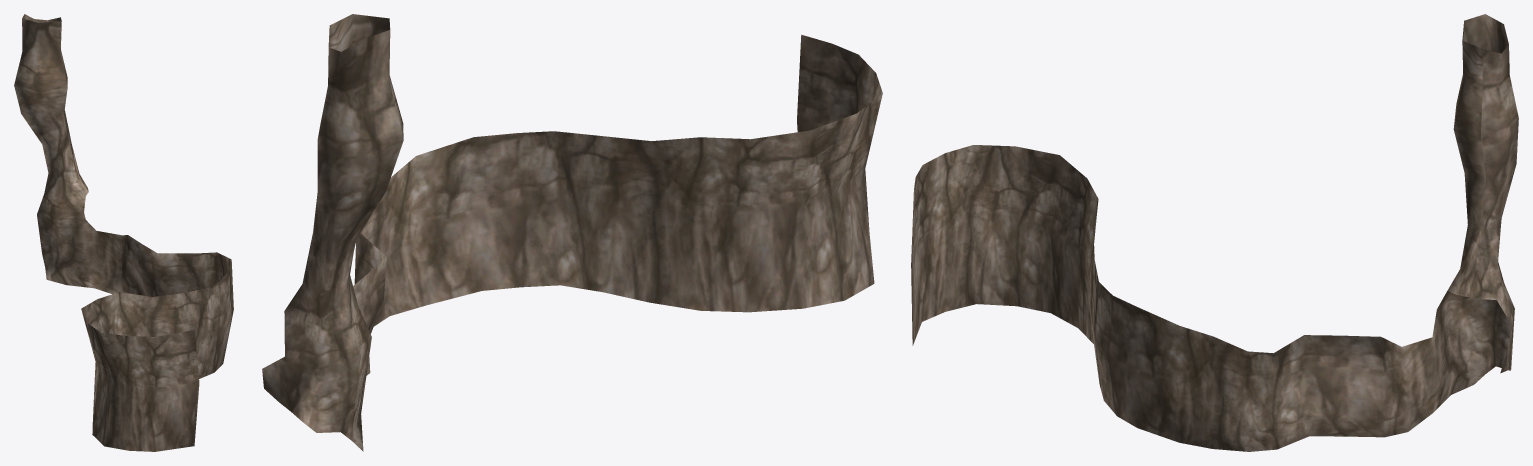
Rendered from EKH_THRONE_PS_TH_LAKE_WALL356.fbx.
The picture shows the model from 3 angles, left to right: view 1: azimuth 30°, elevation 25°; view 2: azimuth 150°, elevation 25°; view 3: azimuth 270°, elevation 25°; orthographic projection. The views are drawn at different scales.
Visible parts, largest first — view 1: EKH_THRONE_PS_TH_LAKE_WALL356; view 2: EKH_THRONE_PS_TH_LAKE_WALL356; view 3: EKH_THRONE_PS_TH_LAKE_WALL356.
Boxes of the visible parts, x1=… form: EKH_THRONE_PS_TH_LAKE_WALL356: x1=14, y1=14, x2=233, y2=451; EKH_THRONE_PS_TH_LAKE_WALL356: x1=262, y1=14, x2=882, y2=451; EKH_THRONE_PS_TH_LAKE_WALL356: x1=911, y1=14, x2=1518, y2=451.
Bounding box in the file's own units: 99101 × 119940 × 177303.
Materials: 1 (1 with a texture image).
